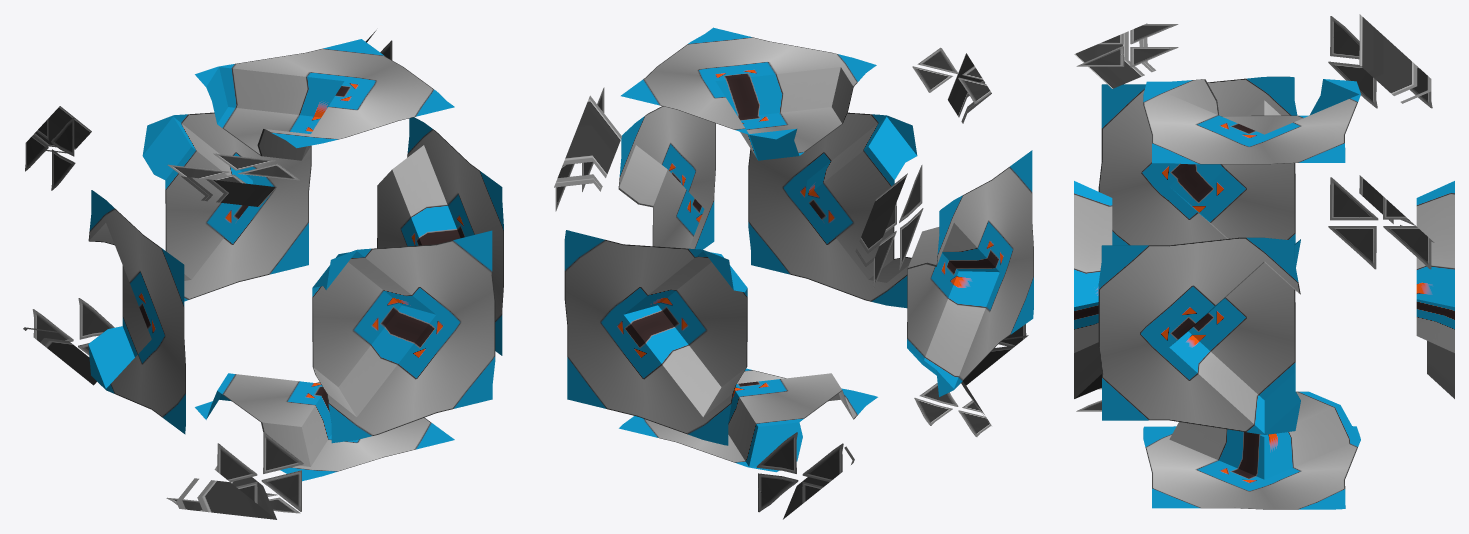
The model's file is hyper_fluid_receiver.obj.
The picture shows the model from 3 angles, left to right: view 1: azimuth 30°, elevation 25°; view 2: azimuth 150°, elevation 25°; view 3: azimuth 270°, elevation 25°; orthographic projection. The views are drawn at different scales.
Visible parts, largest first — view 1: Cube; view 2: Cube; view 3: Cube.
Boxes of the visible parts, x1,y1,x2,y2 form: Cube: (23,30,503,519); Cube: (554,27,1033,519); Cube: (1074,14,1454,509).
Size of the model in its own units: 1 by 1 by 1.
